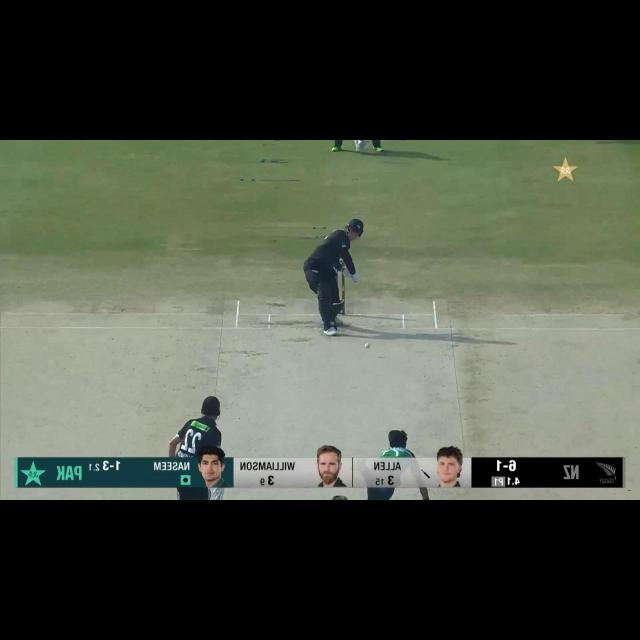bat: (338, 259, 348, 269)
